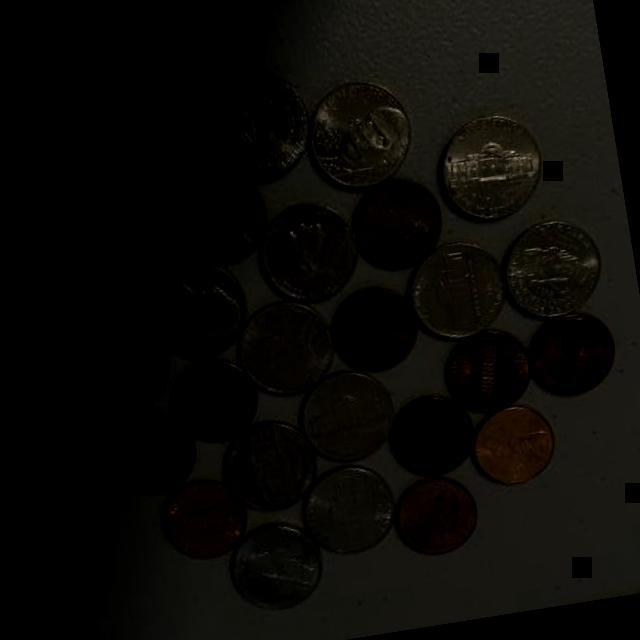Nickel: (299, 71, 421, 198), (197, 63, 314, 188), (429, 110, 546, 232), (61, 180, 183, 296), (493, 212, 609, 327), (248, 196, 364, 310), (136, 256, 252, 367), (230, 294, 342, 404), (292, 363, 402, 473), (400, 236, 510, 346), (215, 415, 322, 522), (224, 518, 330, 620), (297, 462, 403, 563)
Penny: (104, 88, 210, 201), (69, 320, 175, 423), (343, 175, 449, 278), (166, 166, 269, 272), (162, 352, 263, 452), (321, 282, 425, 379), (436, 324, 535, 421), (523, 307, 622, 403), (99, 408, 198, 502), (382, 392, 478, 484), (464, 402, 560, 493), (388, 476, 482, 562), (154, 480, 248, 566)
